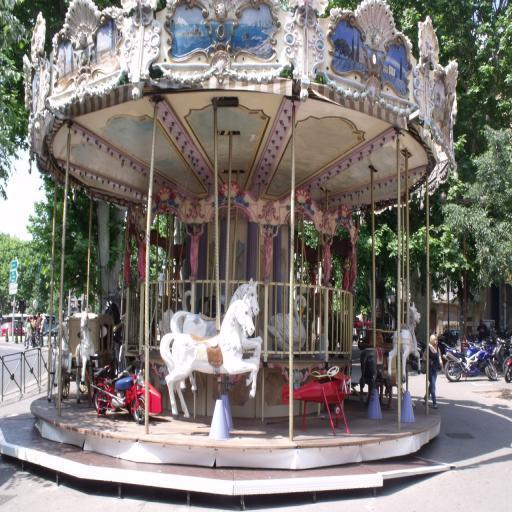horse: (159, 294, 258, 418), (169, 276, 260, 394), (388, 300, 422, 380), (47, 318, 74, 402), (74, 308, 96, 402)
